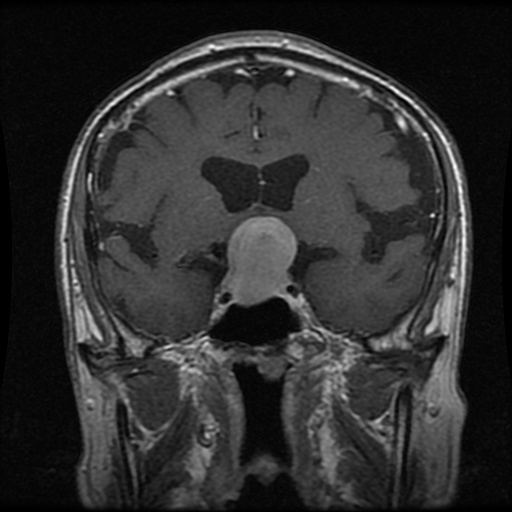pituitary: (214, 216, 297, 304)
